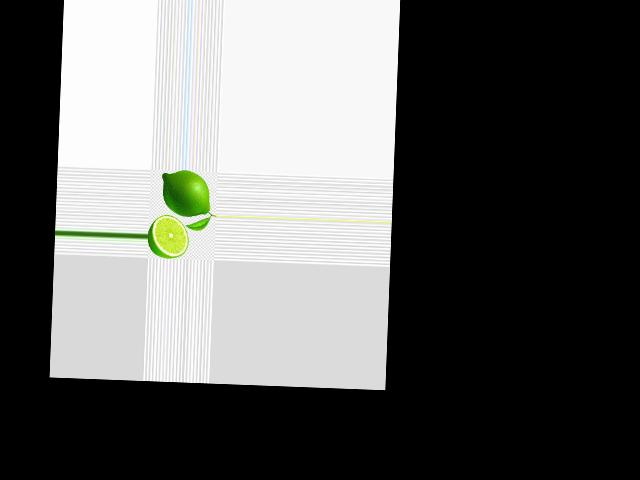lemon: (158, 171, 212, 219)
